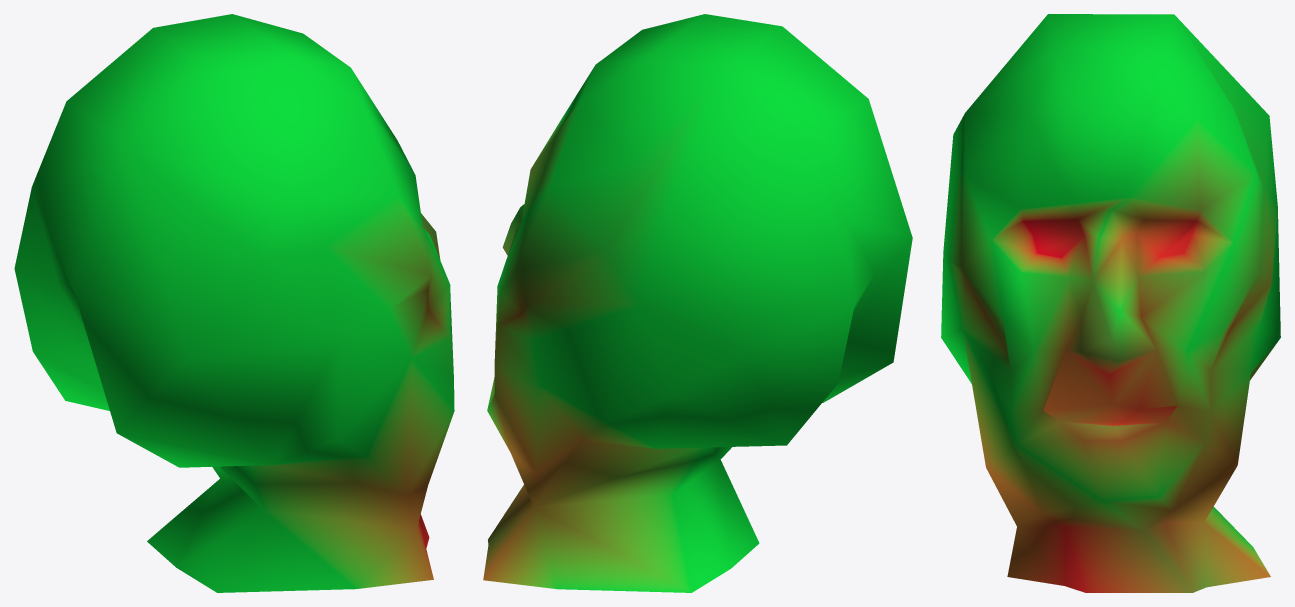
The model's file is ColliderStatueHead1.fbx.
The picture shows the model from 3 angles, left to right: view 1: azimuth 30°, elevation 25°; view 2: azimuth 150°, elevation 25°; view 3: azimuth 270°, elevation 25°; orthographic projection. The views are drawn at different scales.
Visible parts, largest first — view 1: Man.001; view 2: Man.001; view 3: Man.001.
Boxes of the visible parts, <box> form: Man.001: <box>14,14,454,592</box>; Man.001: <box>483,14,912,592</box>; Man.001: <box>941,14,1280,592</box>.
Bounding box in the file's own units: 144 × 183 × 117.
